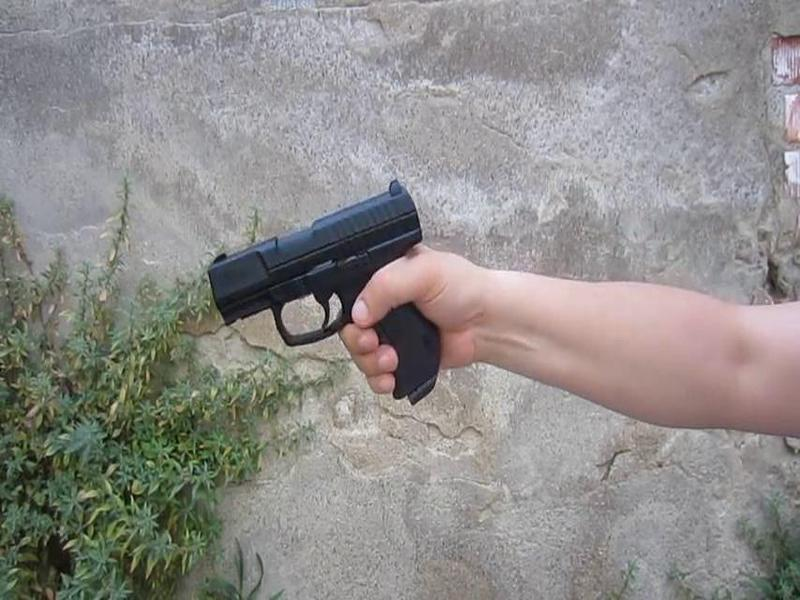Pistola: (176, 194, 438, 405)
